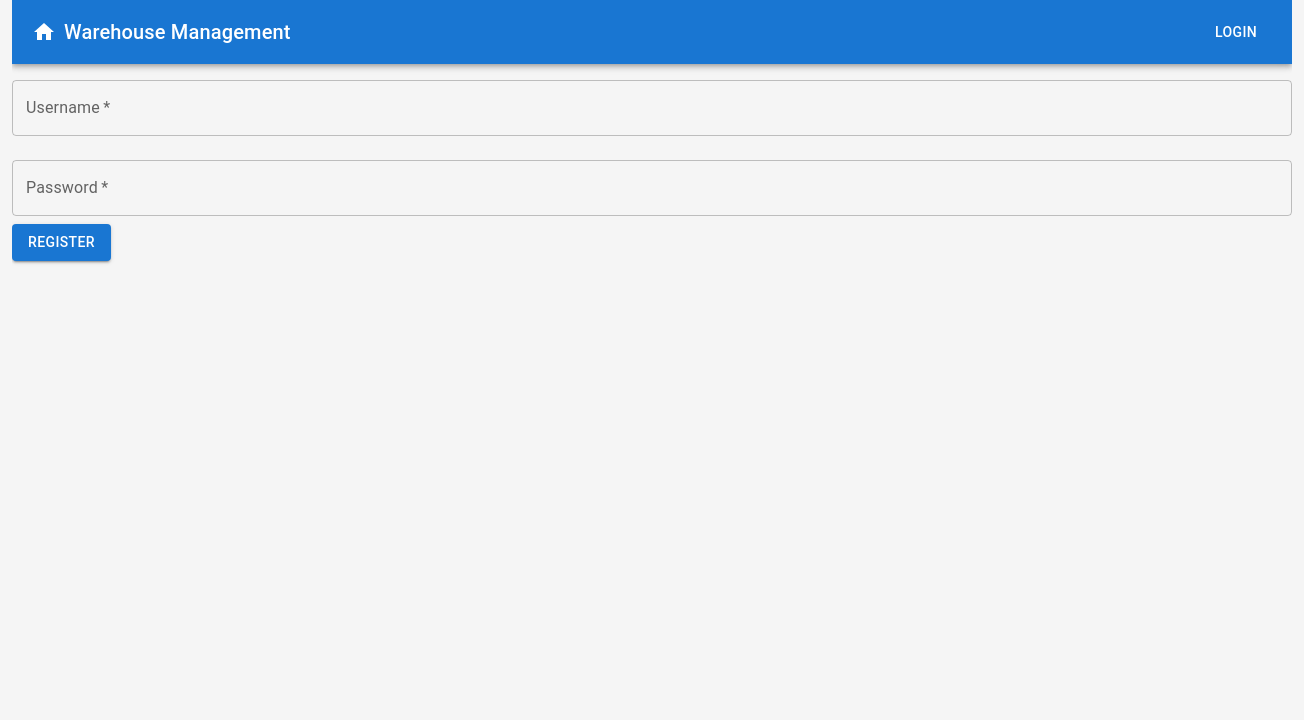
Test: Register Page Tests › should show error on registration failure
Assuming the user 'testuser' already exists
In the field named "username": (652, 108) [12,80,1292,136], type "testuser"
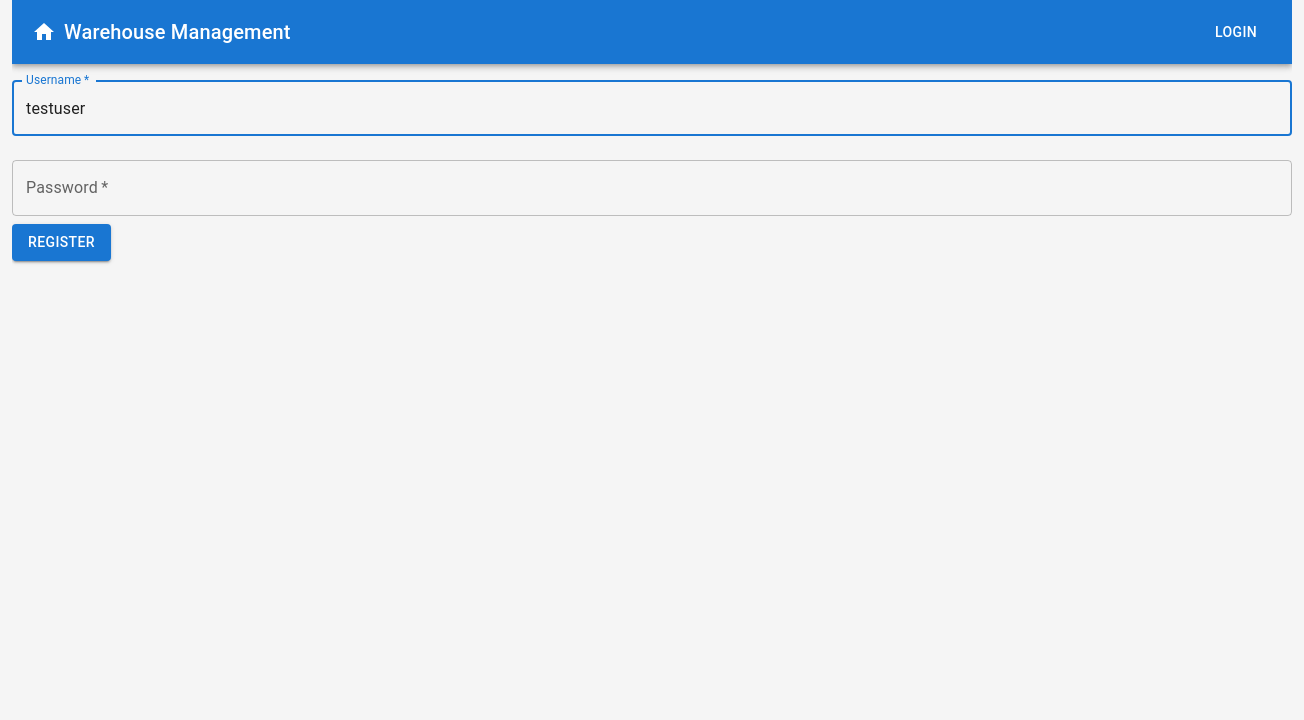
In the password field named "password": (652, 188) [12,160,1292,216], type "testpassword"
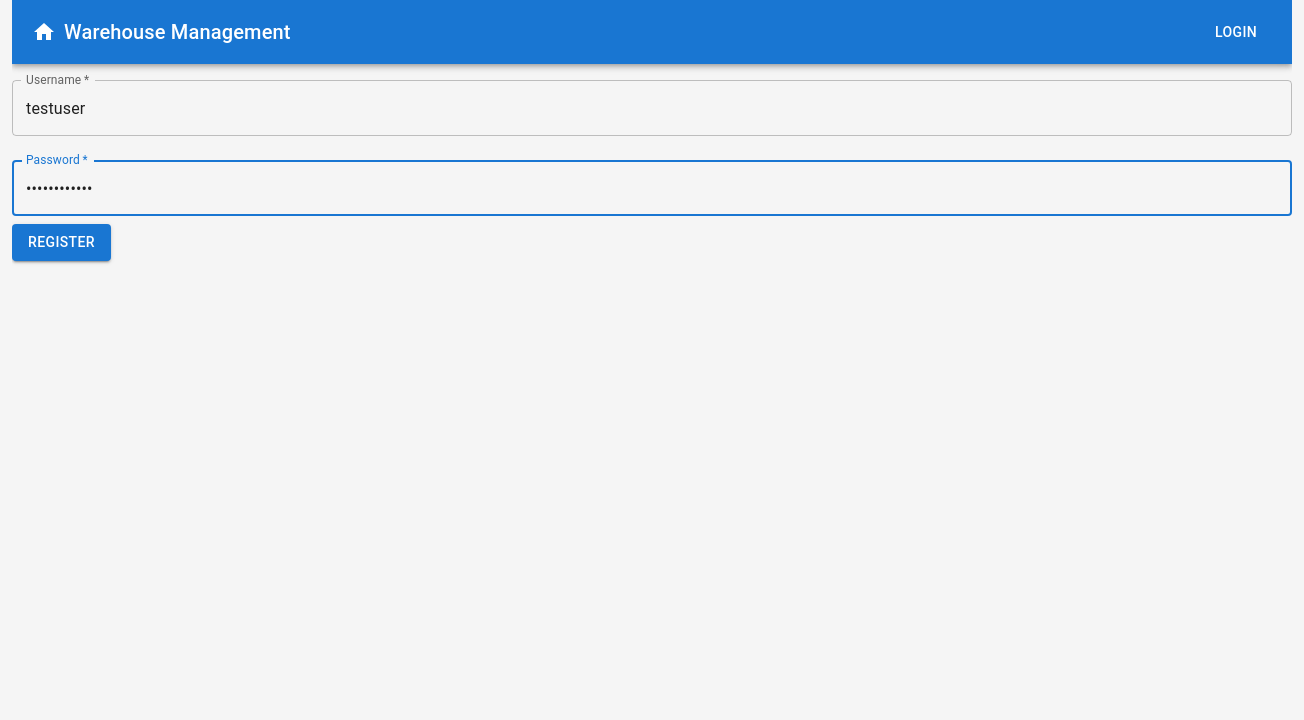
Click the submit button: (62, 243) [12,224,111,261]
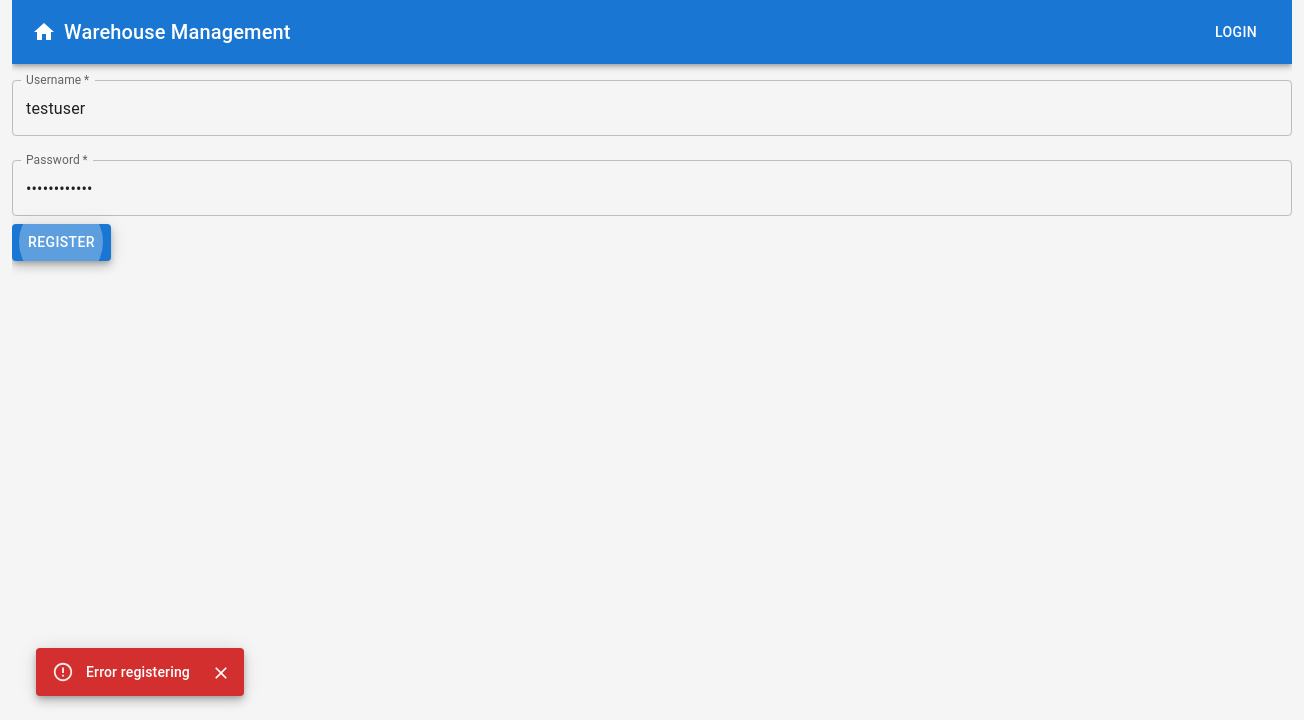
Check: the text "Error registering" is shown, box [86,664,190,680]
